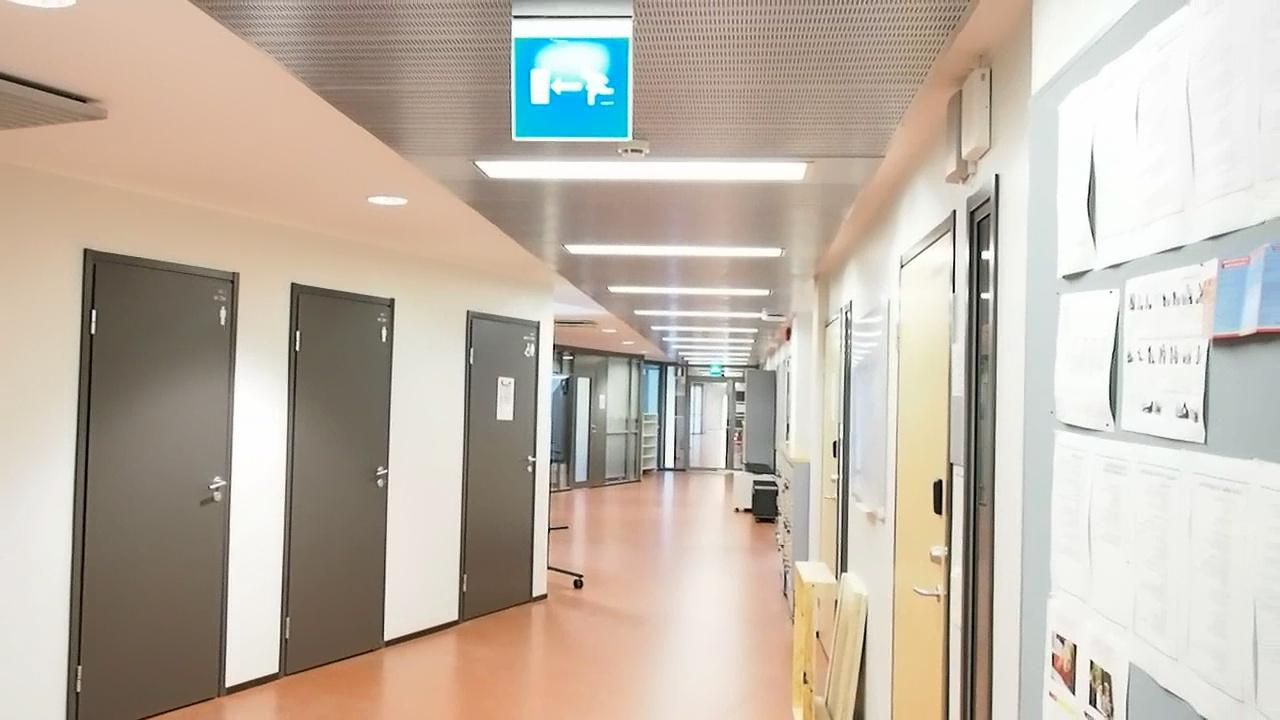exit: (513, 31, 632, 140)
